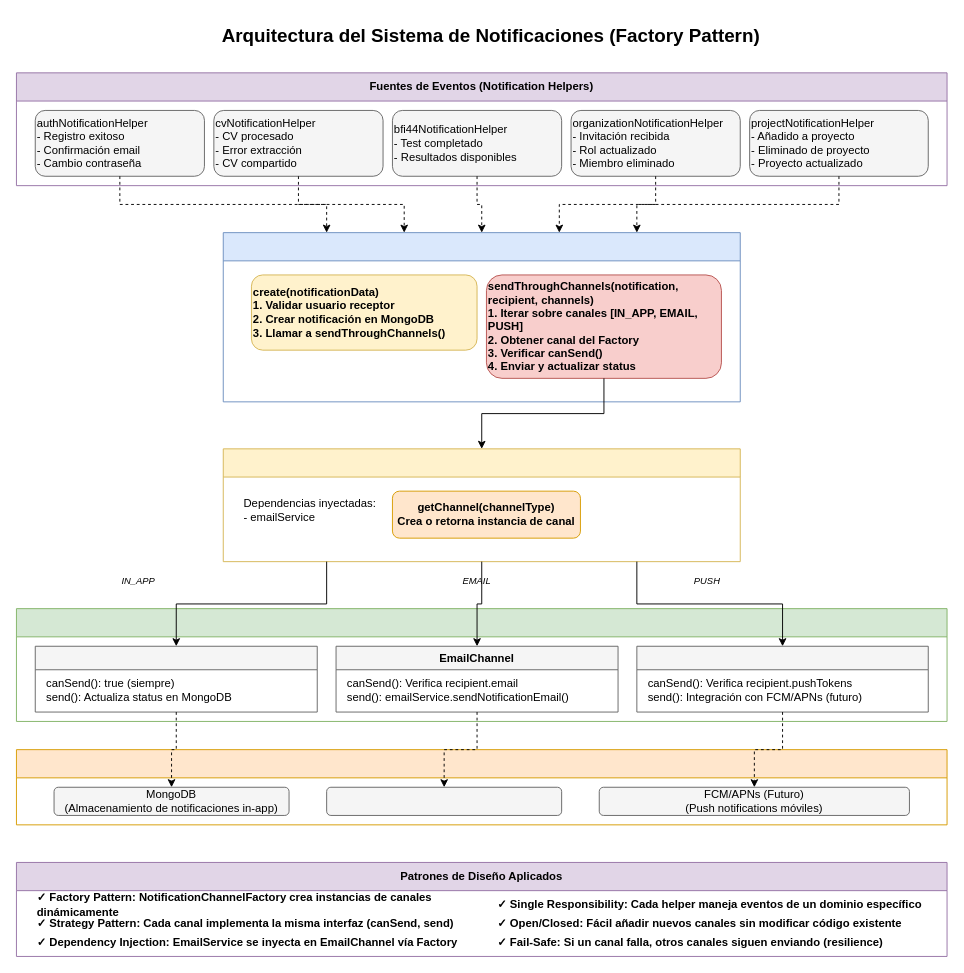
Image size: 964x973. Some labels were removed from this diagram. Here are the shapes that lost their labels. From the top down, the box of each, then its label:
(222, 232, 740, 402): NotificationService (Orquestador Principal)
(222, 448, 740, 562): NotificationChannelFactory (Patrón Factory)
(34, 645, 317, 712): InAppChannel
(16, 608, 947, 721): Canales de Notificación (Strategy Pattern)
(636, 645, 928, 712): PushChannel
(326, 786, 562, 815): Brevo API (SMTP) (Envío de correos electrónicos)
(16, 749, 947, 825): Servicios Externos
